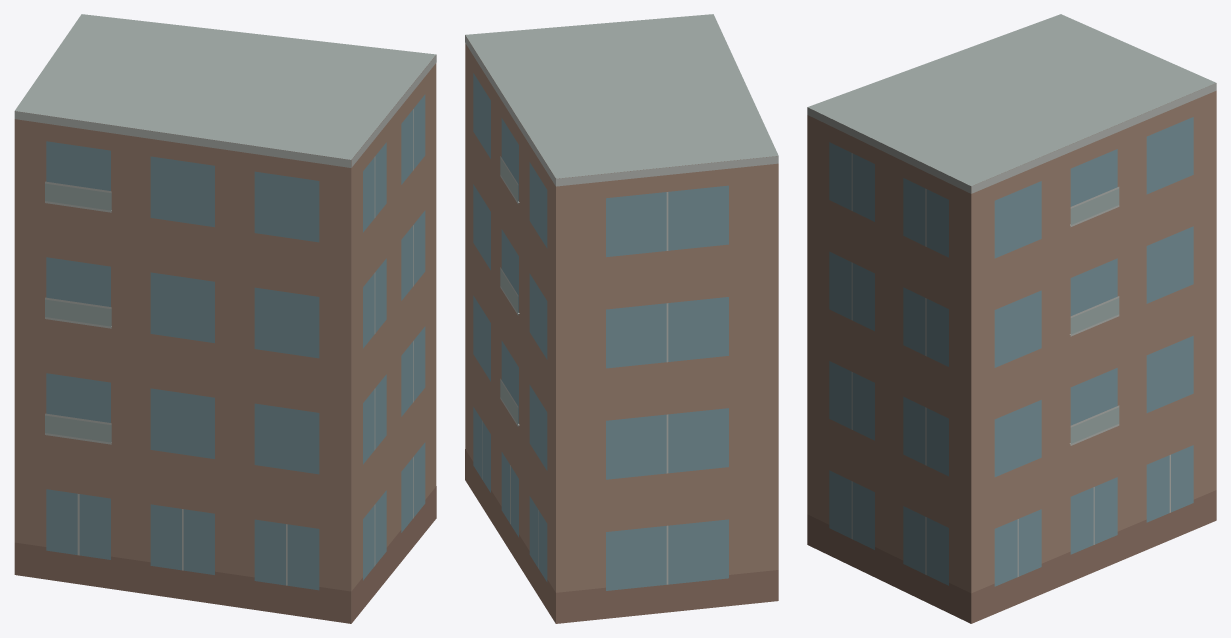
The model's file is survey-upis-32785950.glb.
The picture shows the model from 3 angles, left to right: view 1: azimuth 30°, elevation 25°; view 2: azimuth 150°, elevation 25°; view 3: azimuth 270°, elevation 25°; orthographic projection. The views are drawn at different scales.
Visible parts, largest first — view 1: survey-upis-32785950.tmp; view 2: survey-upis-32785950.tmp; view 3: survey-upis-32785950.tmp.
Part boxes in pixels (x1,y1,x2,y2): survey-upis-32785950.tmp: [14, 14, 436, 623]; survey-upis-32785950.tmp: [465, 14, 778, 623]; survey-upis-32785950.tmp: [807, 14, 1216, 623].
Bounding box in the file's own units: 11.78 × 13.94 × 11.83.
